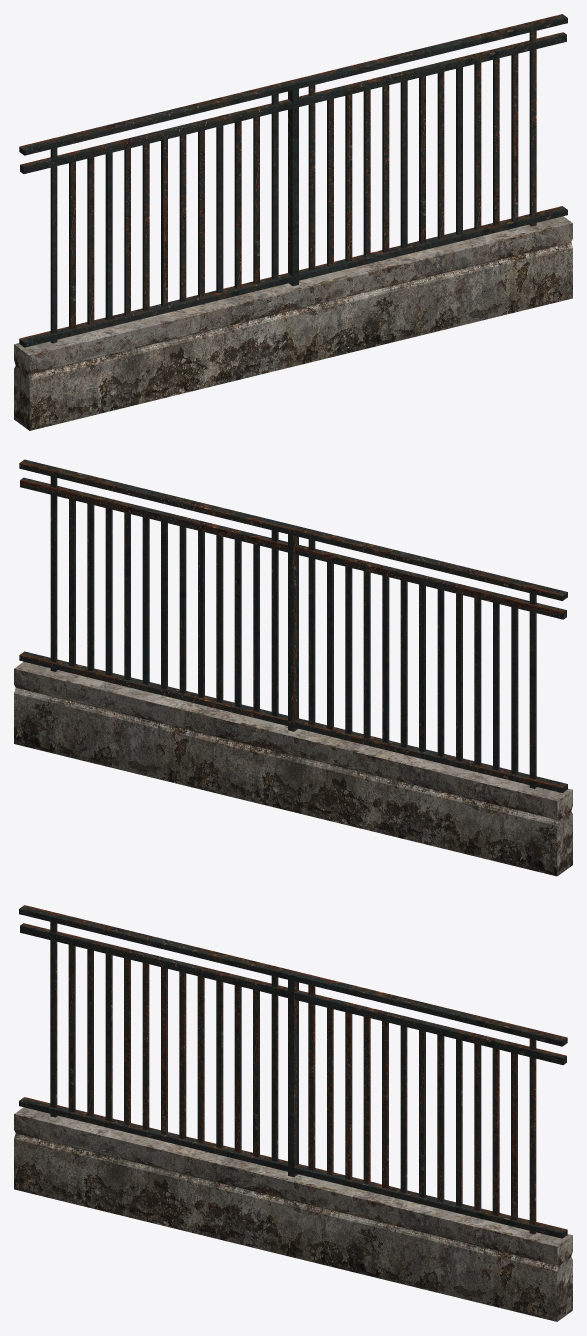
File: Wall3F.fbx
3 views of the same model, one above another, from view 1: azimuth 30°, elevation 25°; view 2: azimuth 150°, elevation 25°; view 3: azimuth 330°, elevation 25° (orthographic).
Parts seen in each view (by area): view 1: polySurface196; view 2: polySurface196; view 3: polySurface196.
Part boxes in pixels (box(x1,y1,x2,y2)): polySurface196: box(14, 14, 572, 430); polySurface196: box(14, 459, 572, 876); polySurface196: box(14, 905, 572, 1321).
Size of the model in its own units: 6 by 2.92 by 0.3.
